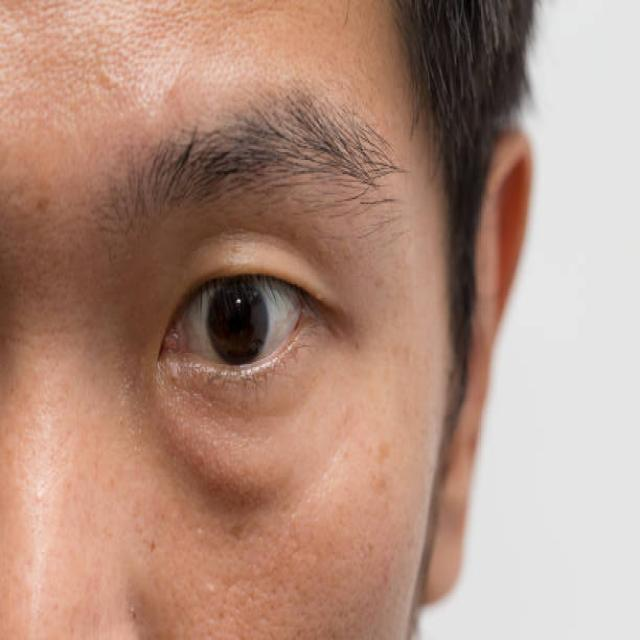Dry-Skin: (148, 28, 364, 359), (203, 383, 324, 584), (352, 463, 459, 640), (24, 6, 116, 208), (63, 434, 153, 589)
